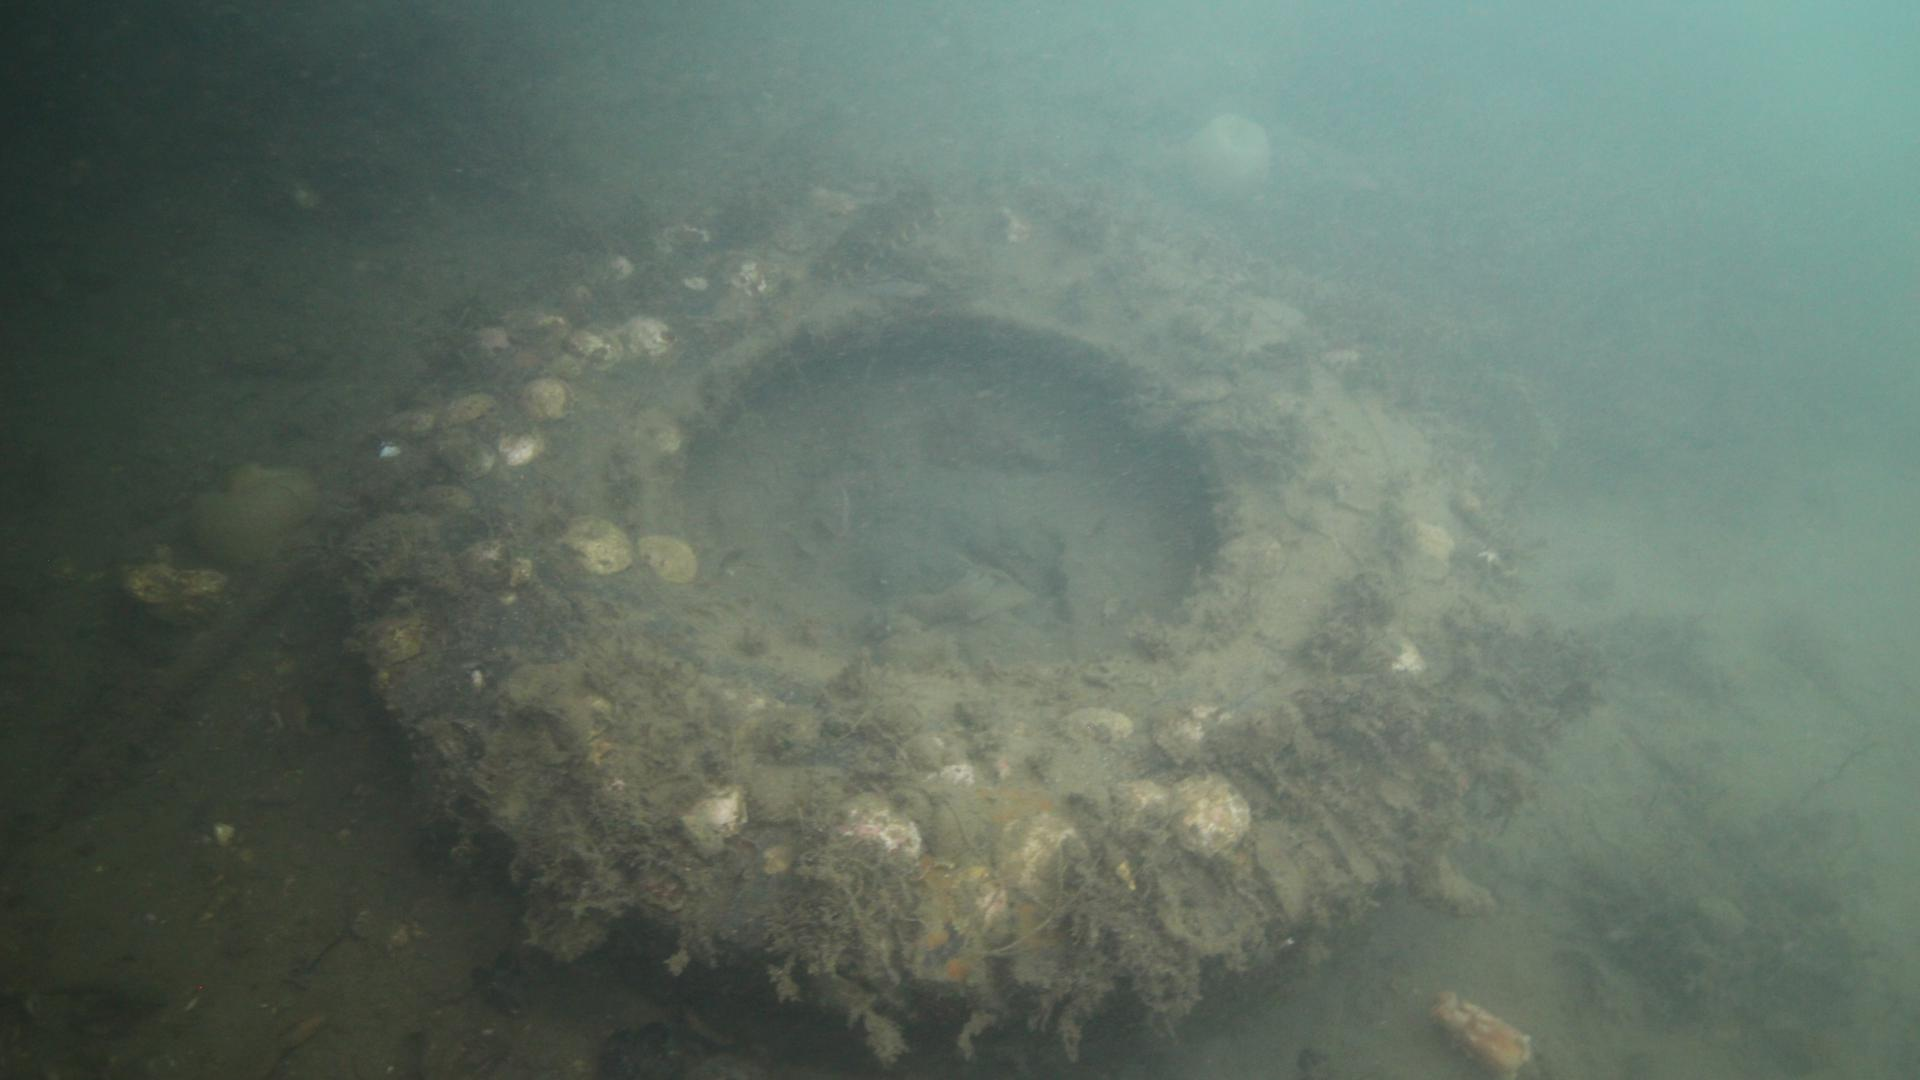tire: (342, 160, 1538, 1075)
